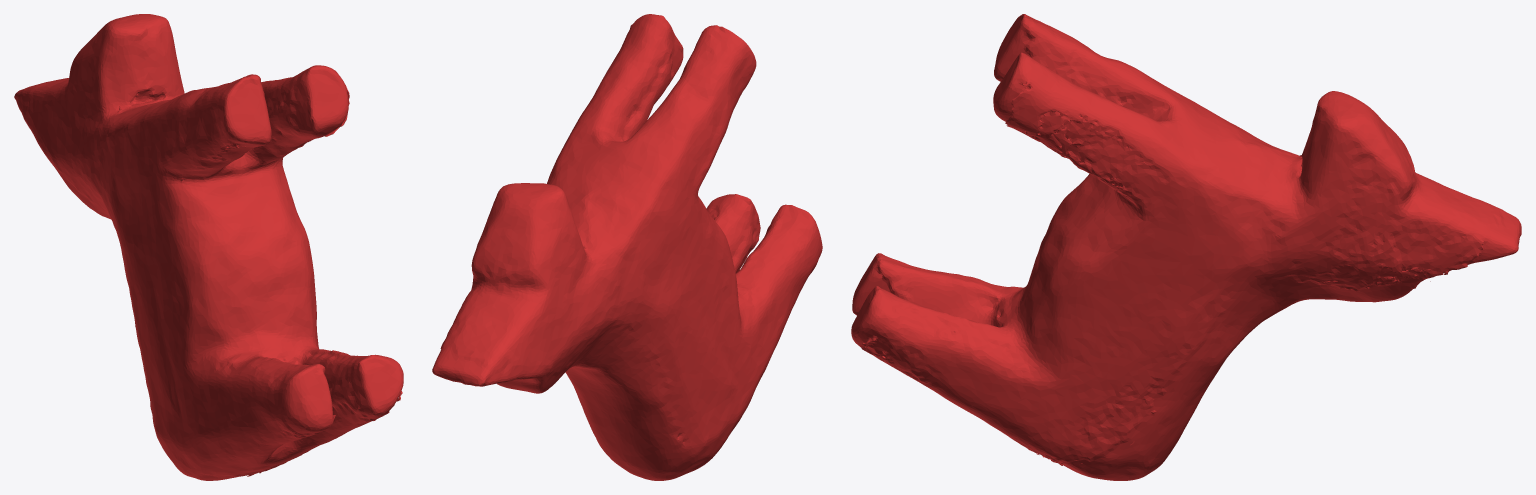
Rendered from dala horse.glb.
3 views of the same model, side by side, from view 1: azimuth 30°, elevation 25°; view 2: azimuth 150°, elevation 25°; view 3: azimuth 270°, elevation 25° (orthographic). The views are drawn at different scales.
Visible parts, largest first — view 1: Mesh; view 2: Mesh; view 3: Mesh.
Part boxes in pixels (<box>): Mesh: <box>14,14,403,480</box>; Mesh: <box>432,14,822,480</box>; Mesh: <box>851,14,1521,480</box>.
Size of the model in its own units: 29.99 by 88.52 by 120.
